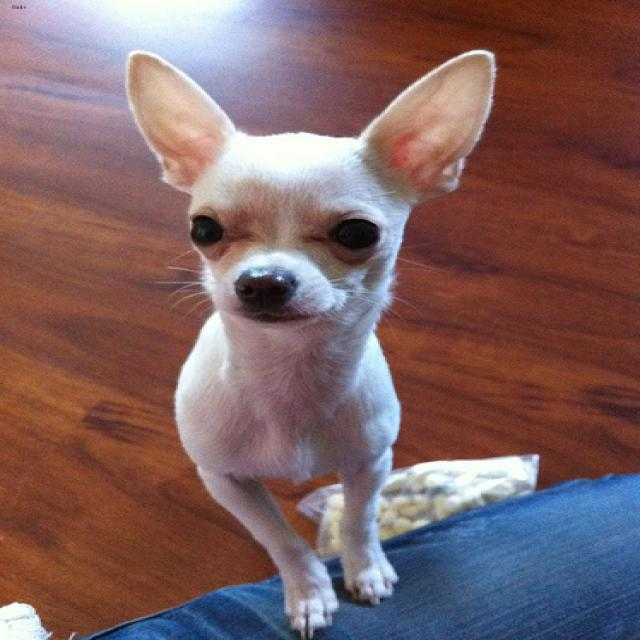dog-chihuahua: (113, 40, 508, 637)
